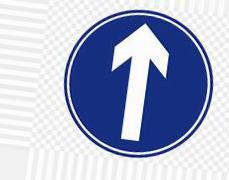forward: (64, 9, 214, 160)
